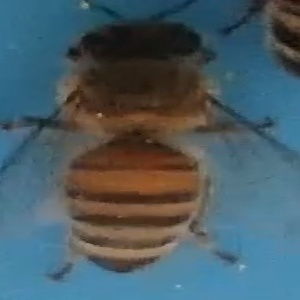bee: (22, 5, 230, 283), (240, 1, 298, 79)
